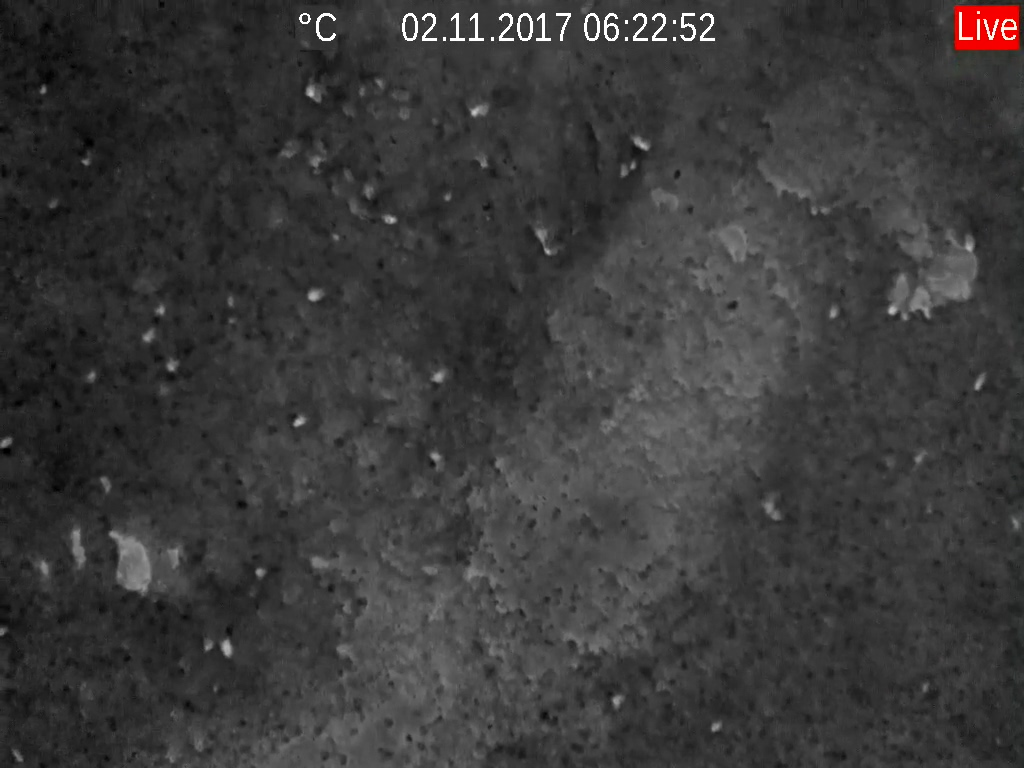warren: (464, 95, 491, 118), (969, 367, 990, 395), (472, 147, 495, 172), (882, 295, 906, 317), (286, 410, 309, 431), (137, 325, 161, 345), (217, 636, 237, 659), (824, 299, 844, 322), (221, 289, 241, 308), (7, 745, 27, 764), (199, 635, 216, 655)
